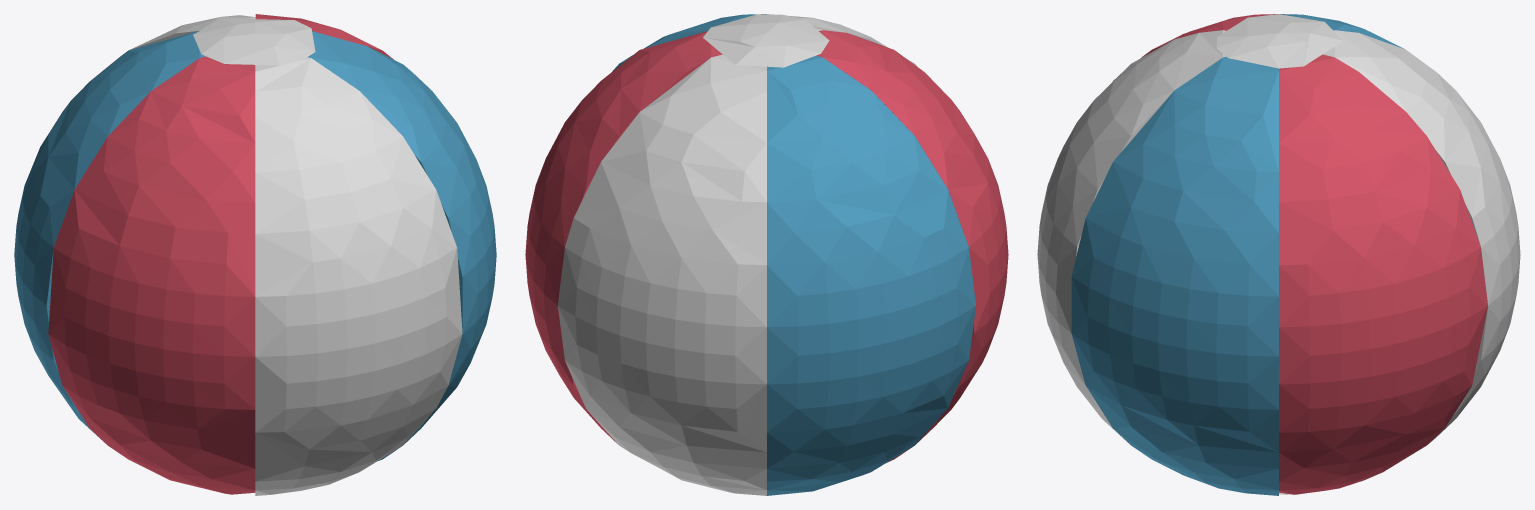
The model's file is beachBall.glb.
3 views of the same model, side by side, from view 1: azimuth 30°, elevation 25°; view 2: azimuth 150°, elevation 25°; view 3: azimuth 270°, elevation 25° (orthographic).
Visible parts, largest first — view 1: Mesh_Mesh_head_geo001_lambert2SG001; view 2: Mesh_Mesh_head_geo001_lambert2SG001; view 3: Mesh_Mesh_head_geo001_lambert2SG001.
Part boxes in pixels (x1,y1,x2,y2): Mesh_Mesh_head_geo001_lambert2SG001: [14, 14, 496, 495]; Mesh_Mesh_head_geo001_lambert2SG001: [525, 14, 1008, 495]; Mesh_Mesh_head_geo001_lambert2SG001: [1037, 14, 1520, 495].
Size of the model in its own units: 19.99 by 20.25 by 19.99.
